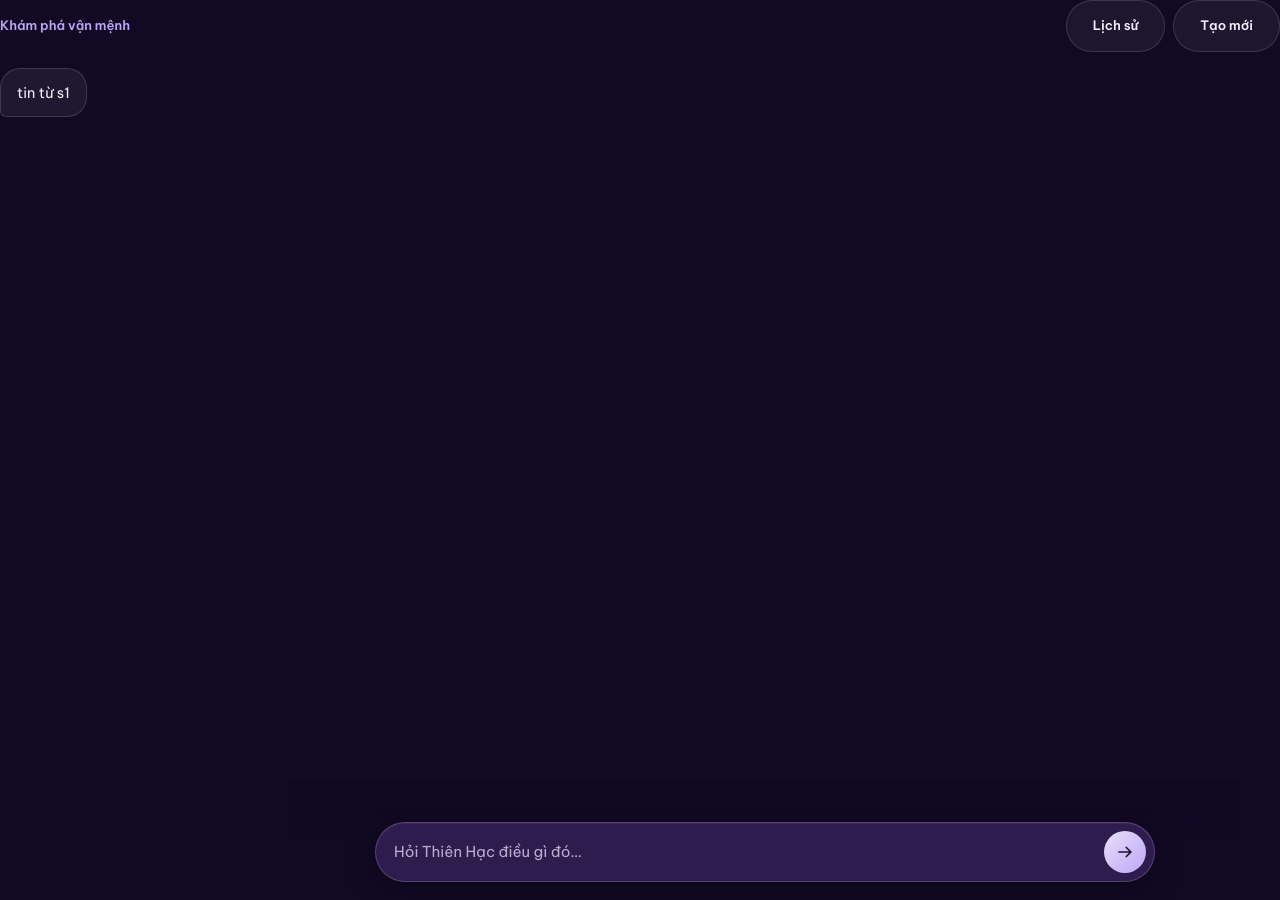
Scenario: HoiAiScreen › aborts the active stream before switching sessions
This screenshot has width=1280, height=900.
Expected: the text "tin từ s1" is shown, [17,82,70,103]
Type "Câu hỏi đang chạy" into the field with placeholder "Hỏi Thiên Hạc điều gì đó…".
click(744, 852); type("Câu hỏi đang chạy")  # box [394,841,1094,863]
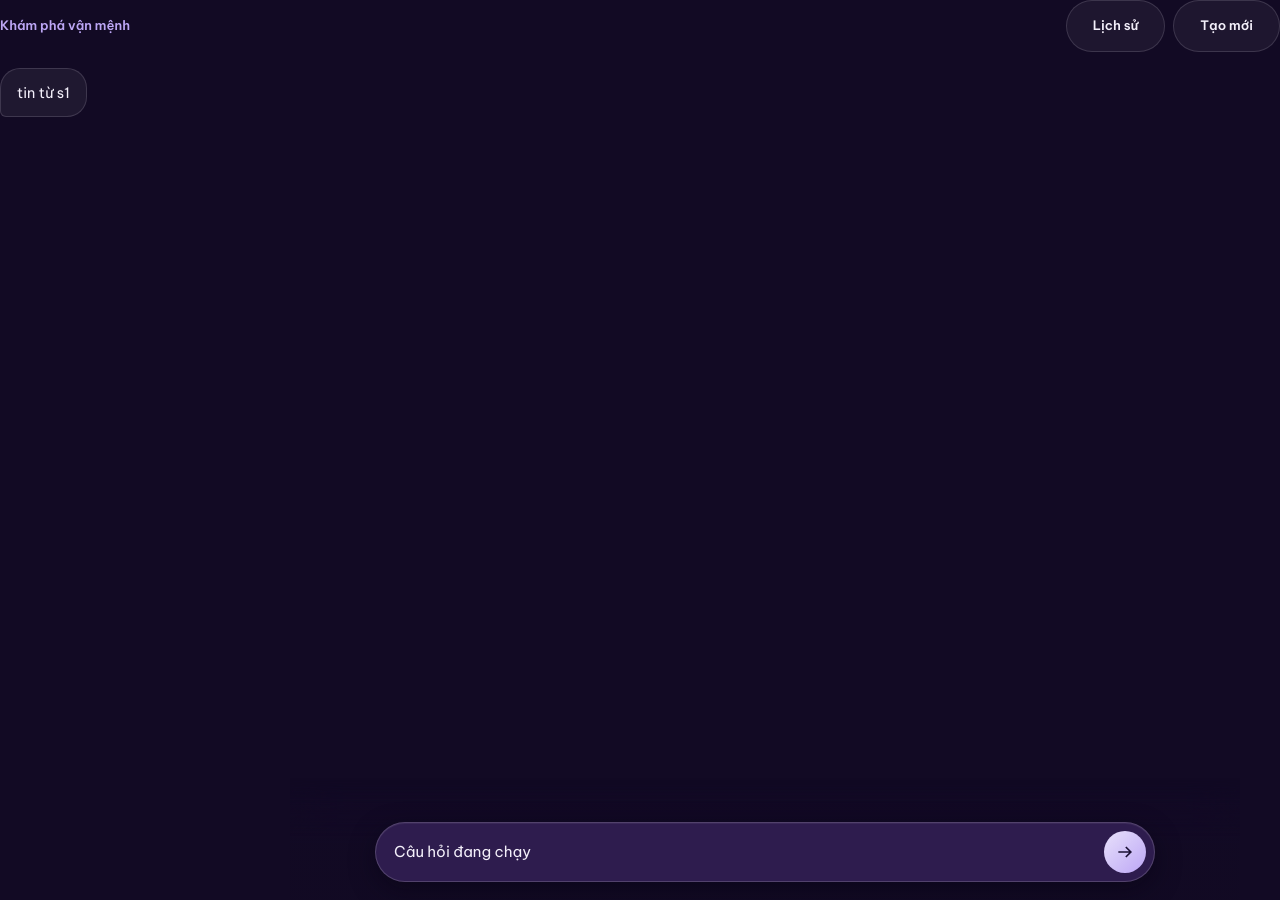
Click the button named "Gửi".
click(1125, 852)  # box [1104,831,1146,873]
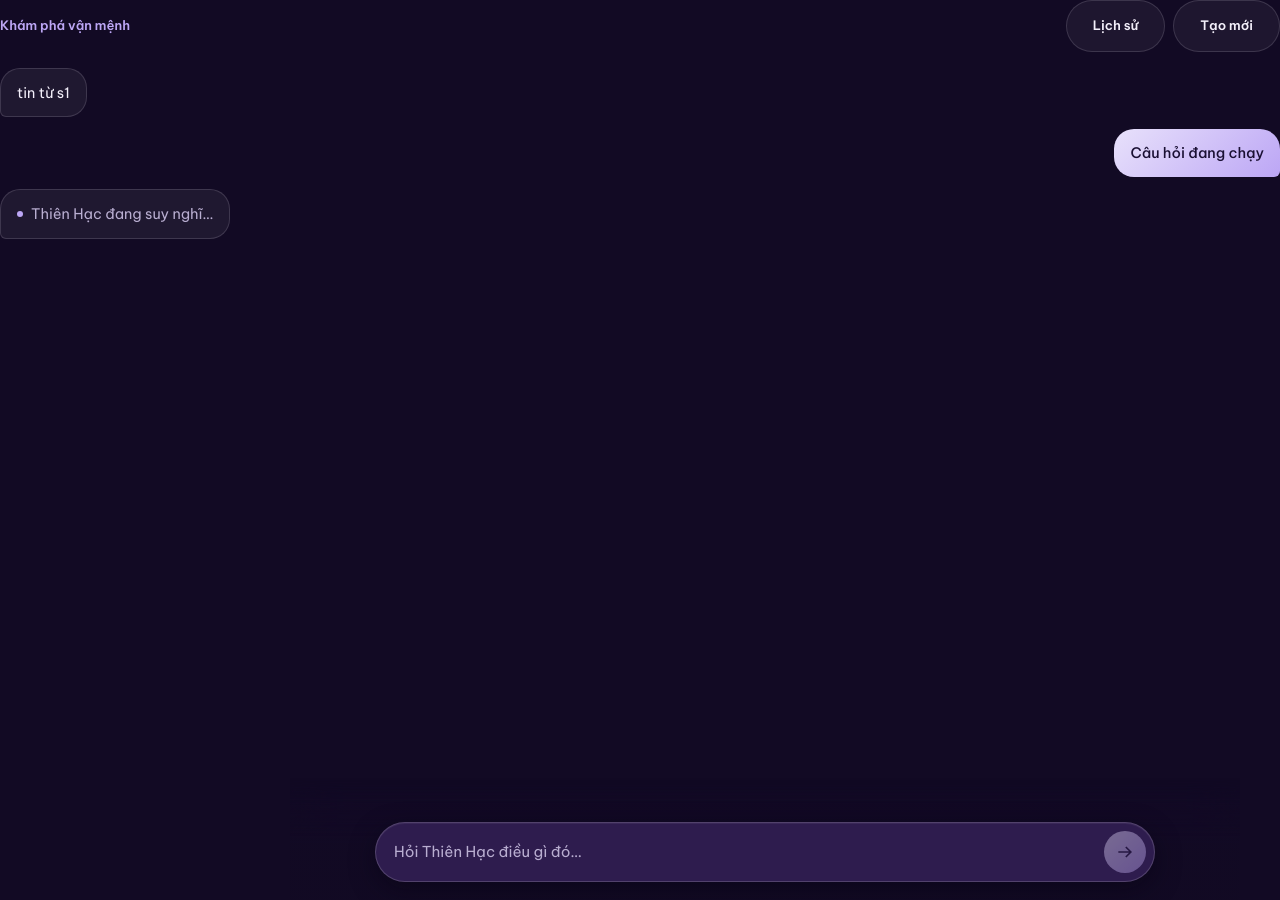
Click the button "Lịch sử".
click(1116, 26)  # box [1066,0,1165,52]
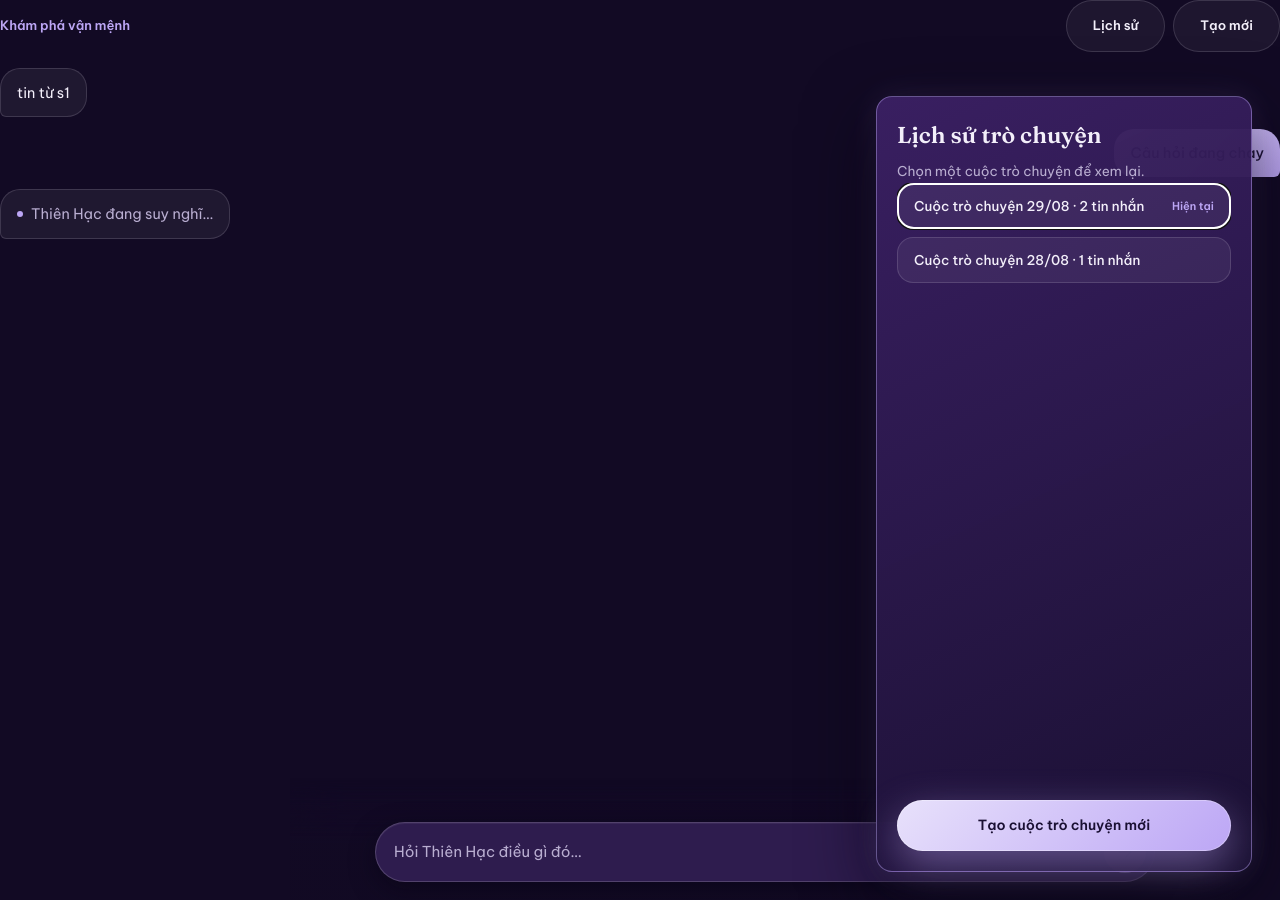
Click the button "Cuộc trò chuyện 28/08 · 1 tin nhắn".
click(1064, 260)  # box [897,237,1231,283]
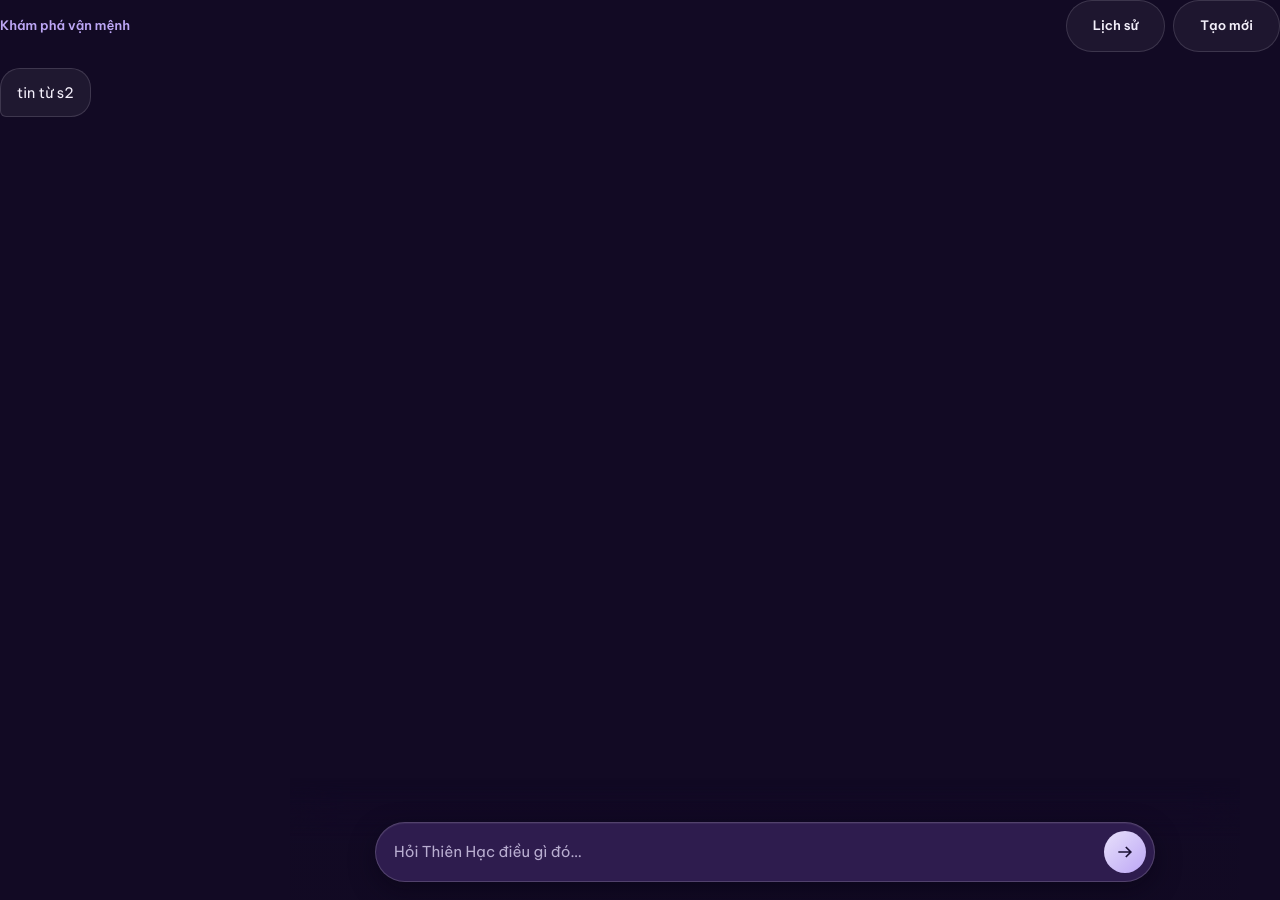
Expected: the text "tin từ s2" is shown, [17,82,74,103]
Expected: the text "Câu hỏi đang chạy" is gone
